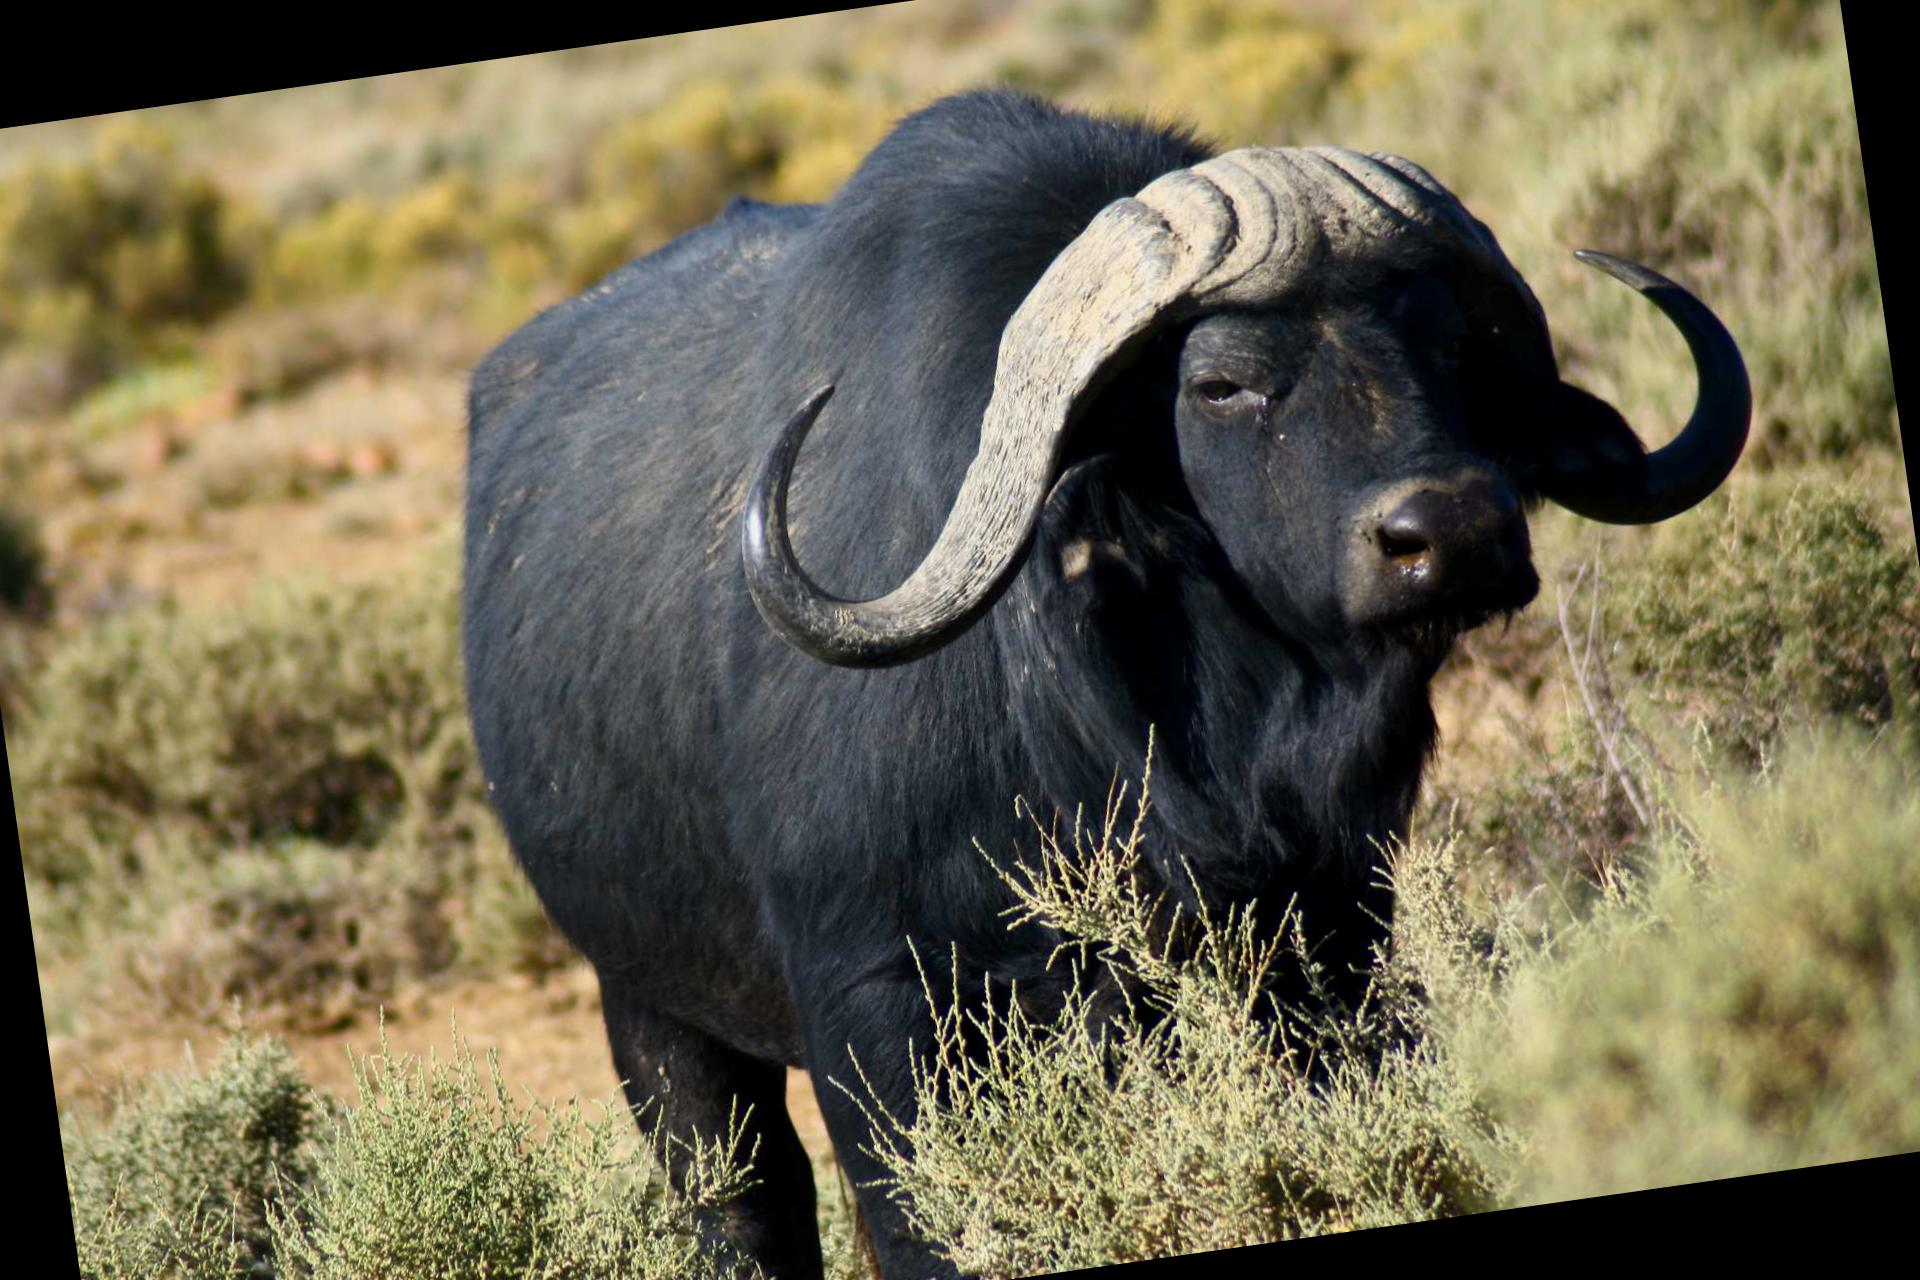Buffalo: (230, 0, 1900, 1280)
